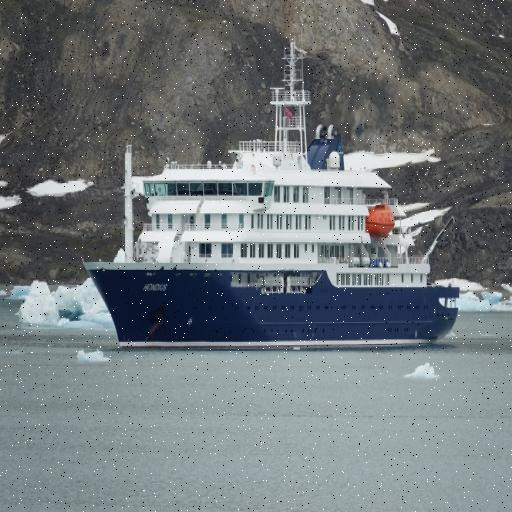cruises: (77, 40, 467, 355)
